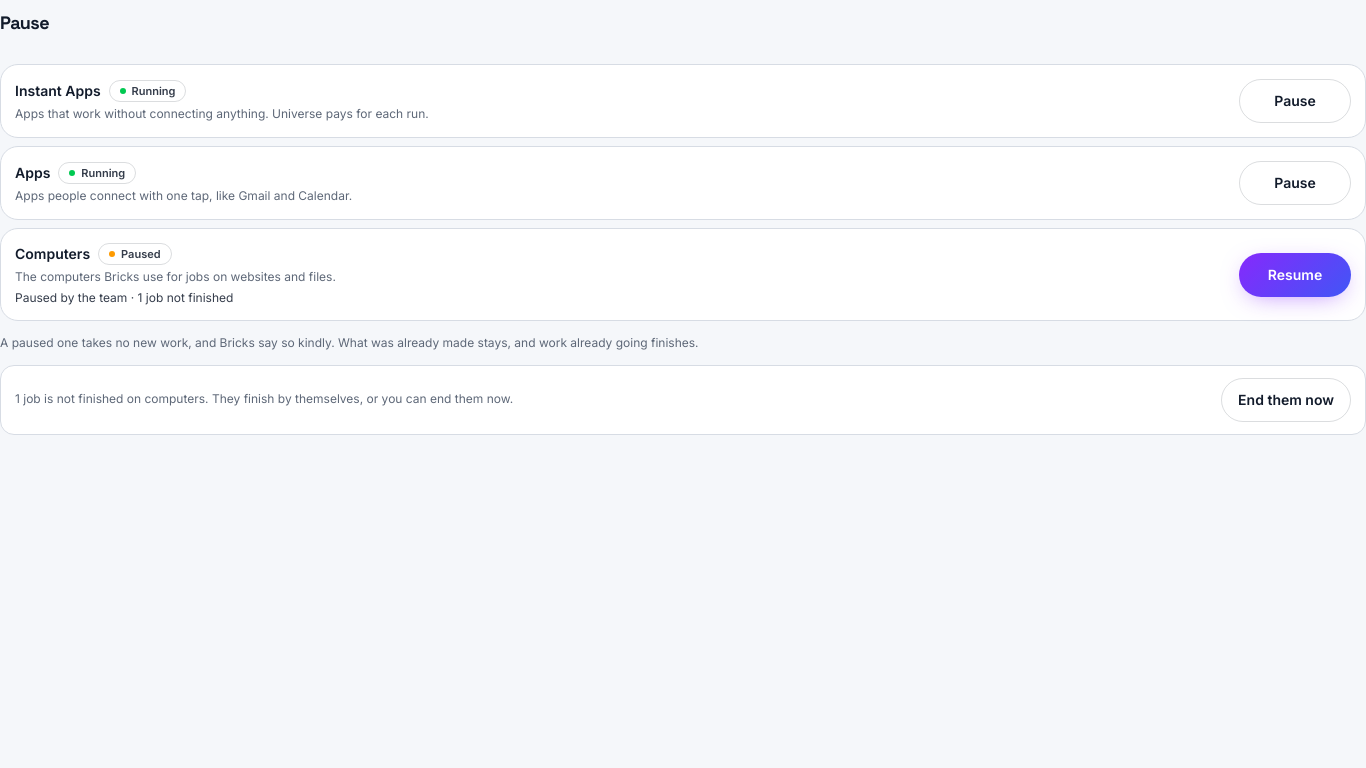
Test: the pause screen › reads again when a Resume fails after “End them now”, so the screen is not left with the ended job and its button
Expected: the element with test id "pause-end-running" is shown, [0, 364, 1365, 434]
Click the button "End them now".
click(1286, 400)  # box [1221, 378, 1351, 422]
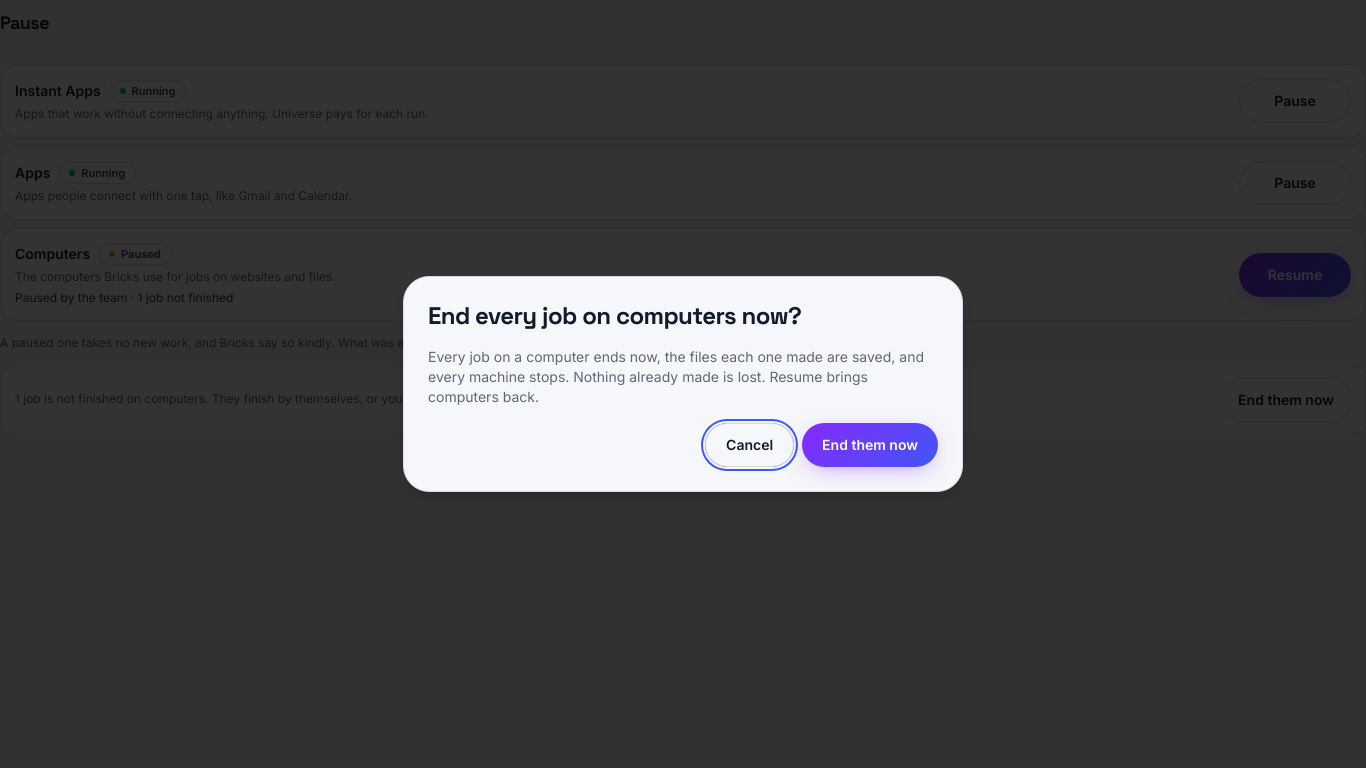
Click the button "End them now".
click(870, 445)  # box [802, 423, 938, 467]
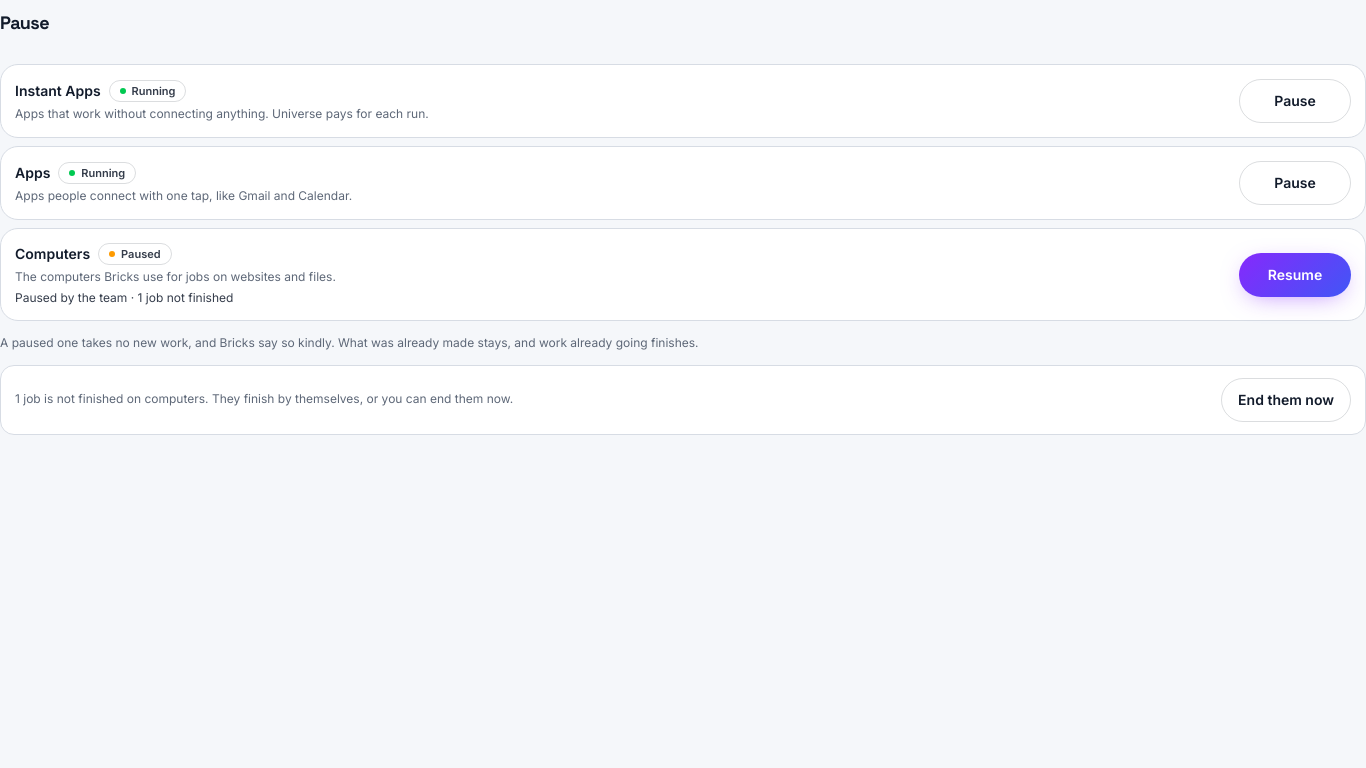
Click the button with aria-label "Resume Computers".
click(1295, 274)  # box [1239, 252, 1351, 296]
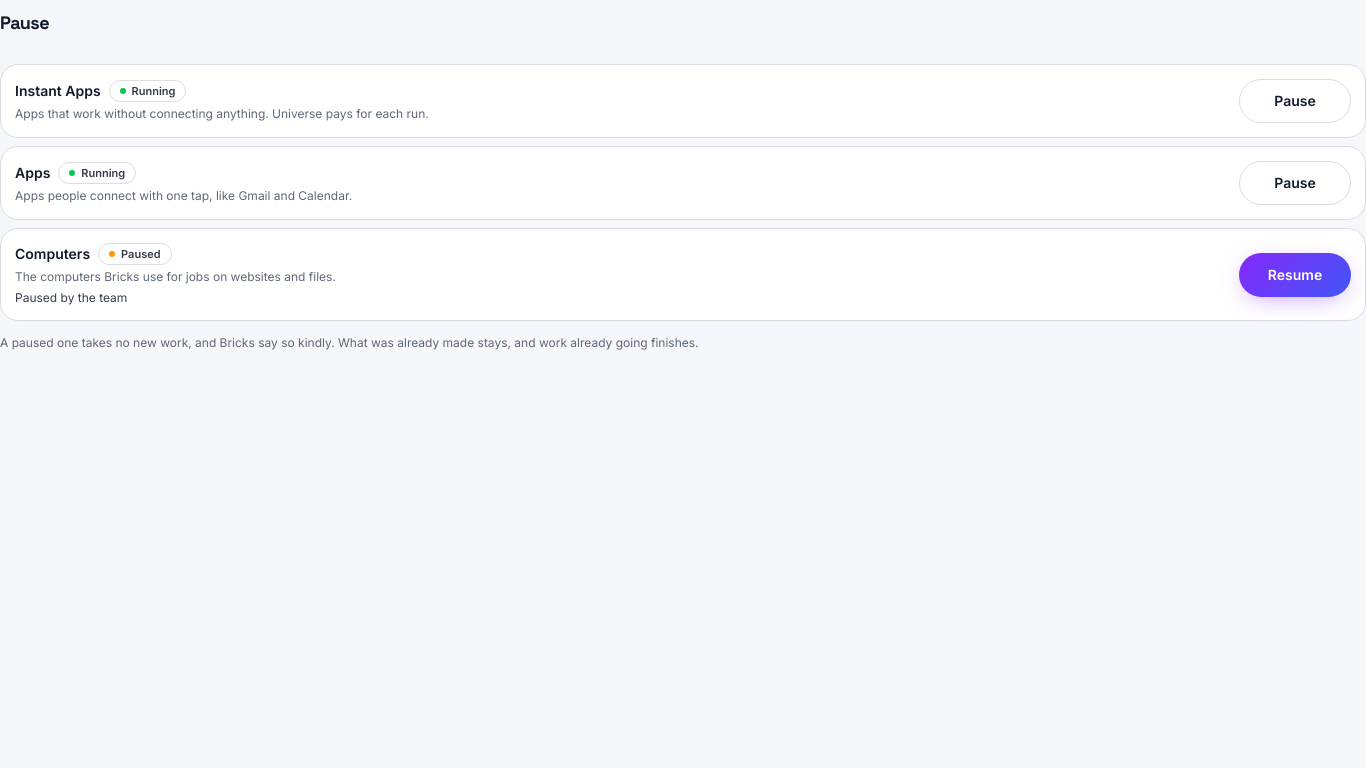
Now the element with test id "pause-end-running" is gone
